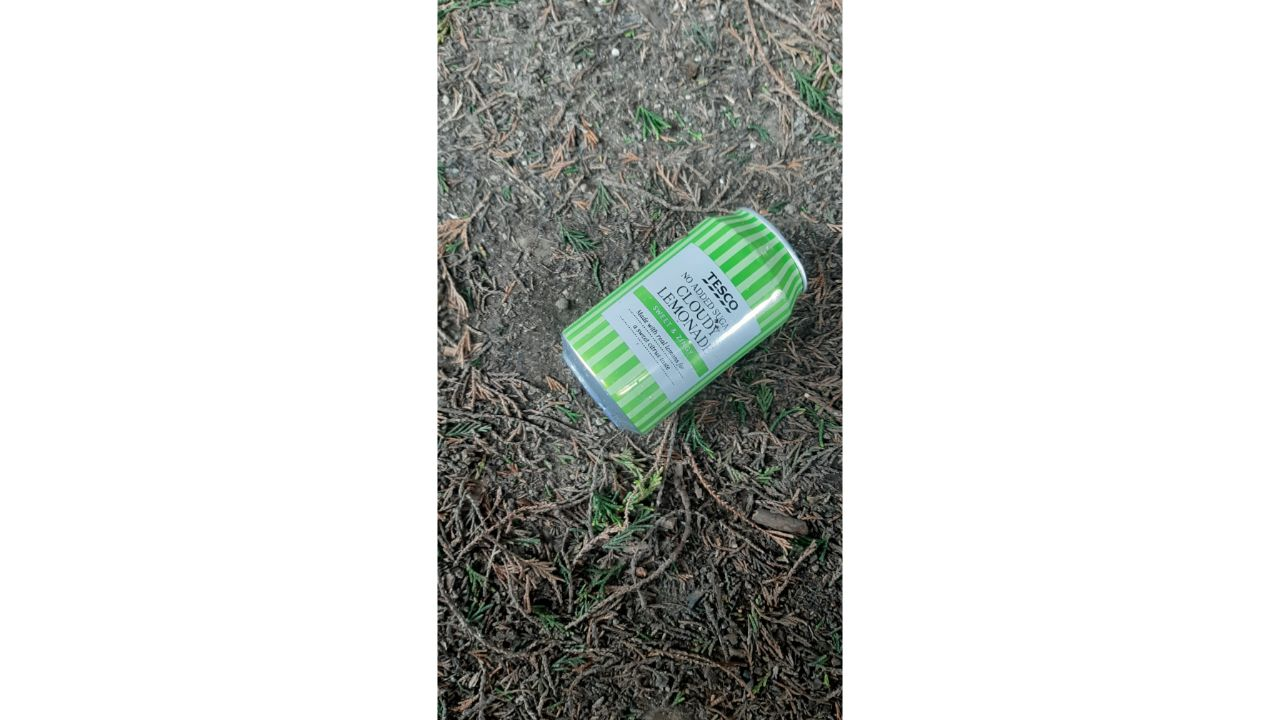Can: (550, 194, 816, 452)
